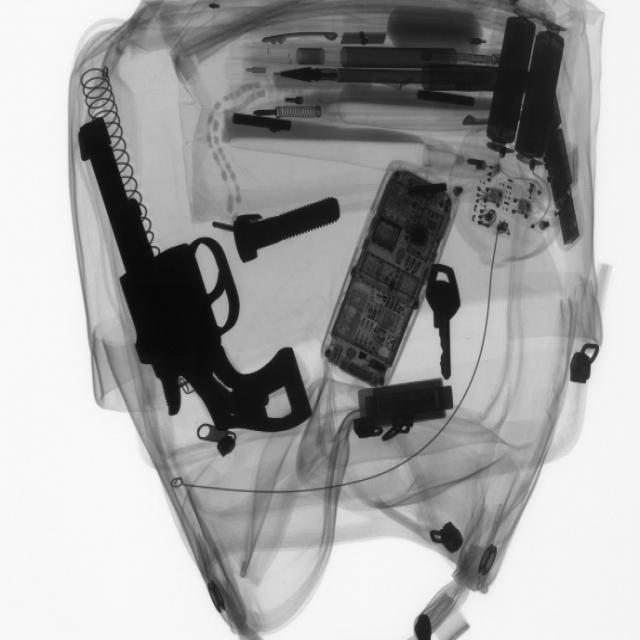GUN: (76, 128, 315, 443)
